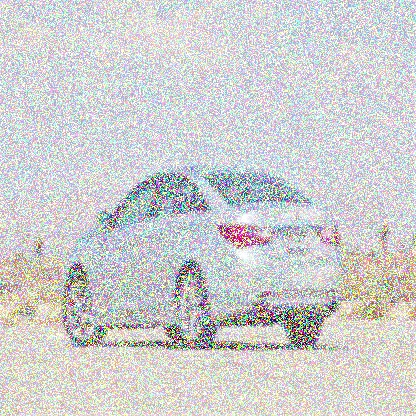Vehicle: (63, 168, 345, 350)
